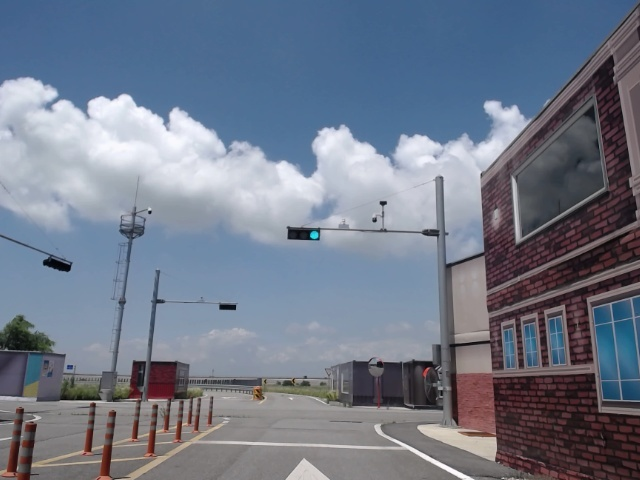green_3: (289, 228, 320, 240)
